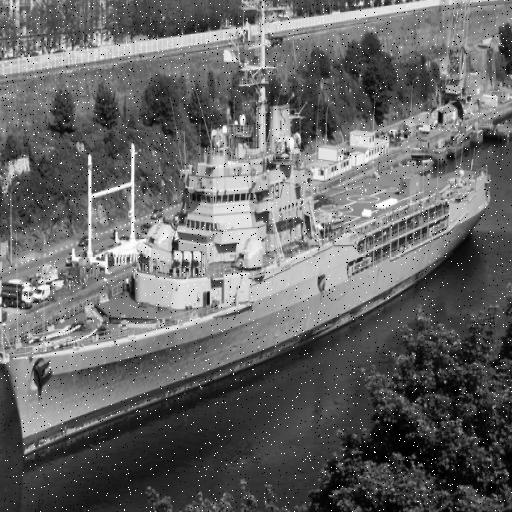Portanaves: (1, 1, 496, 474)
